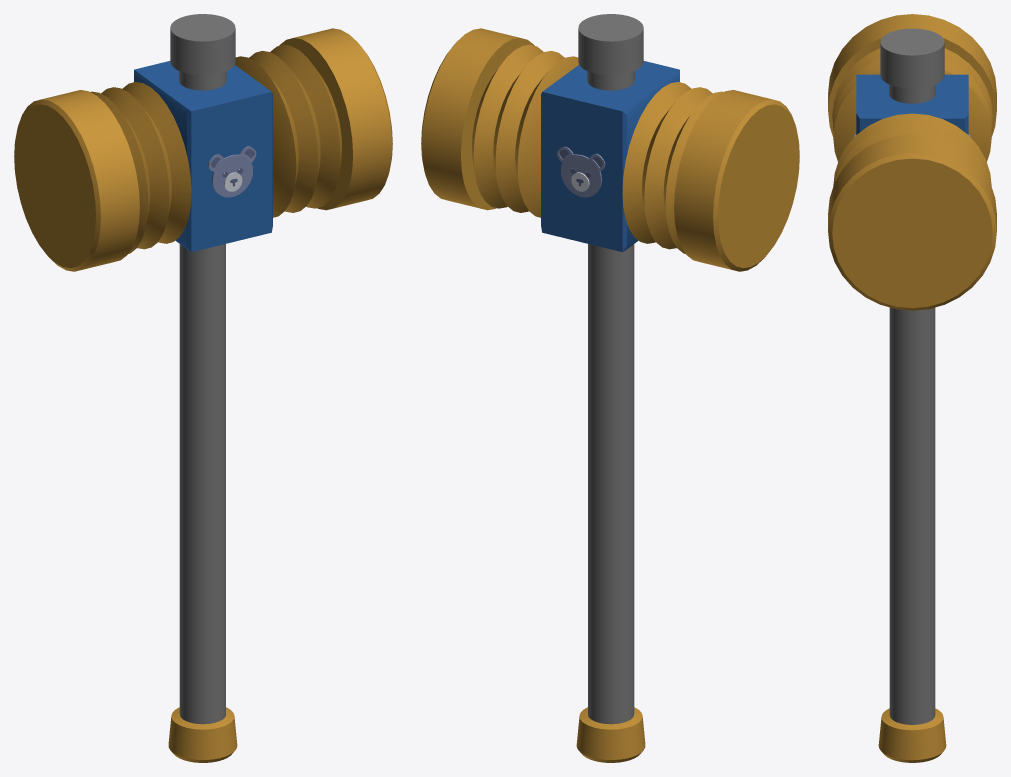
The model's file is Hammer.fbx.
The picture shows the model from 3 angles, left to right: view 1: azimuth 30°, elevation 25°; view 2: azimuth 150°, elevation 25°; view 3: azimuth 270°, elevation 25°; orthographic projection.
Parts seen in each view (by area): view 1: HammerMesh; view 2: HammerMesh; view 3: HammerMesh.
Part boxes in pixels (x1,y1,x2,y2): HammerMesh: [14, 14, 392, 762]; HammerMesh: [421, 14, 799, 762]; HammerMesh: [828, 14, 996, 762].
Bounding box in the file's own units: 169 × 392 × 84.71.
